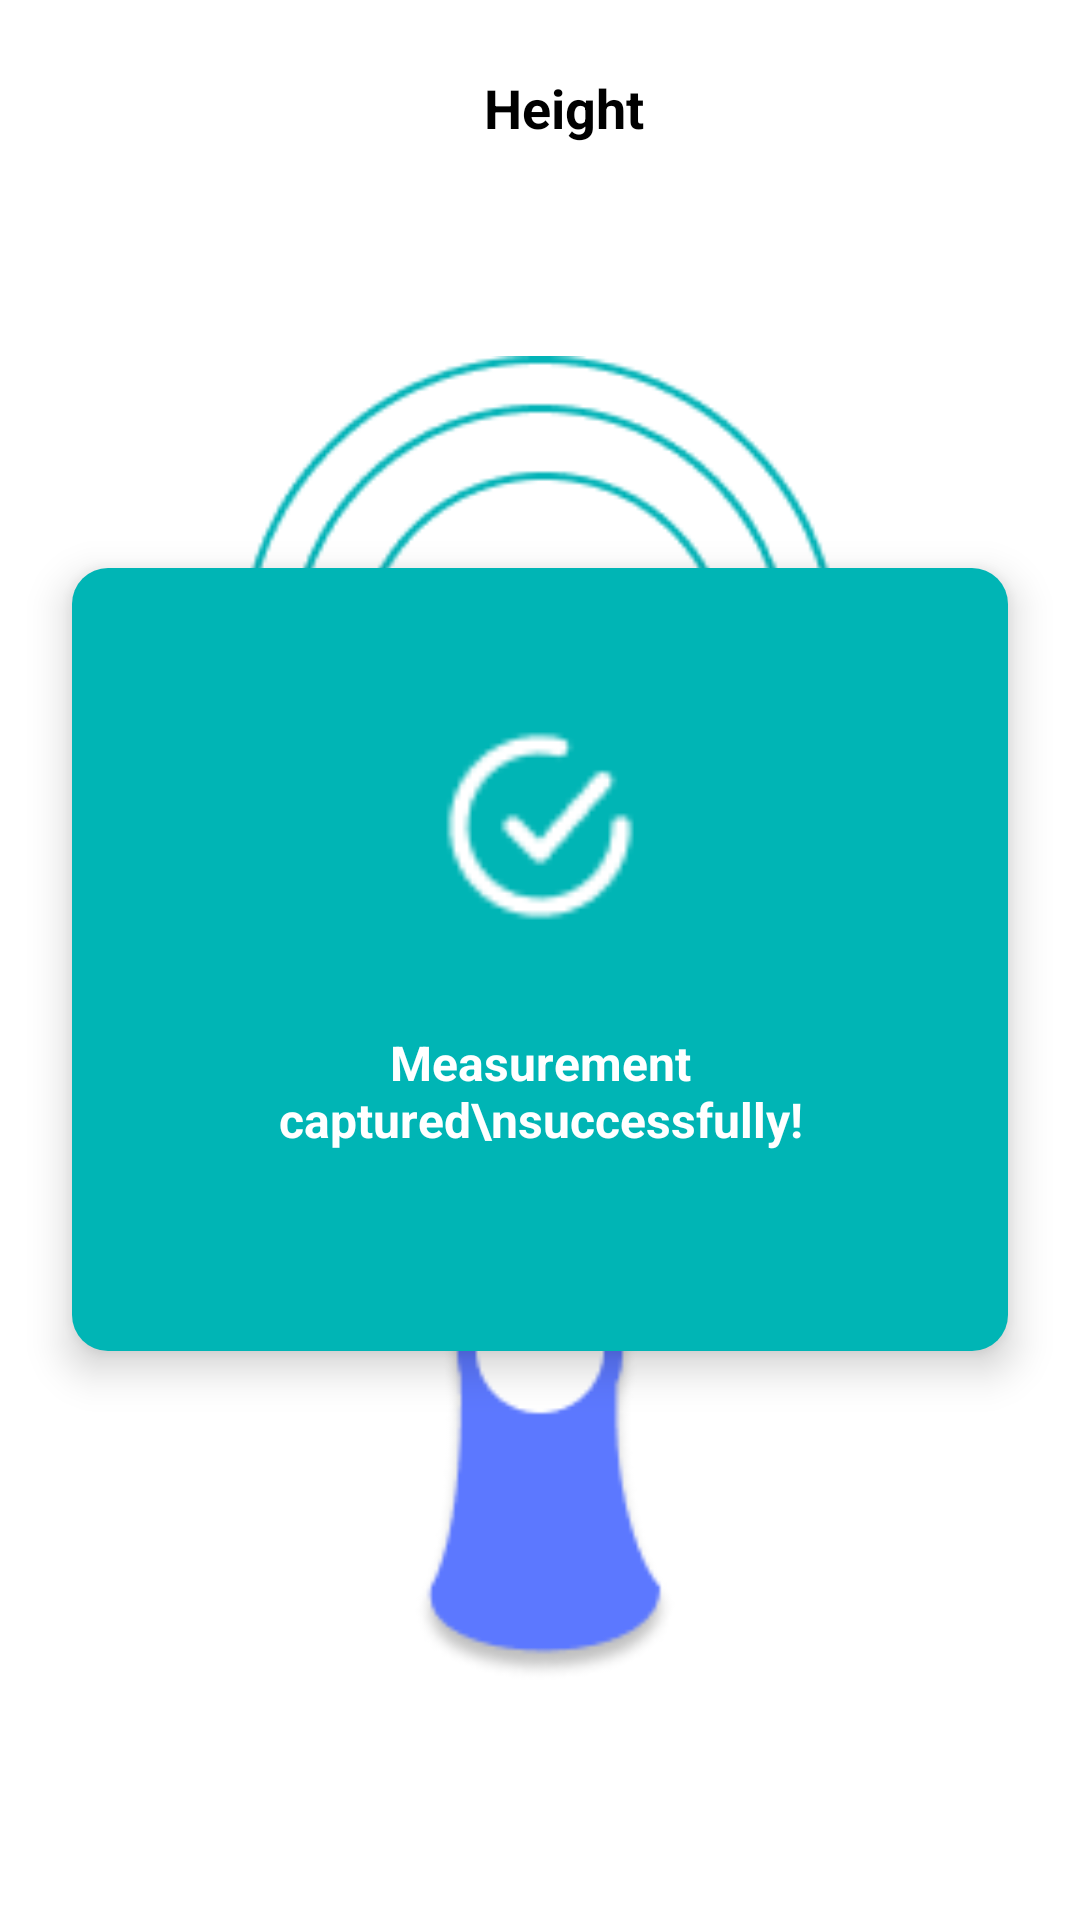

Point at icon controls on the screen. Image size 1080px x 1920px, points as [x,y].
Success Icon: [540,826]
